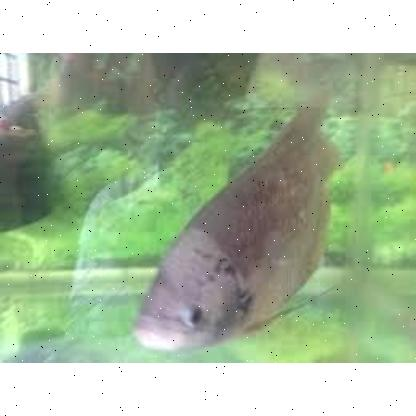gurame: (130, 86, 342, 352)
